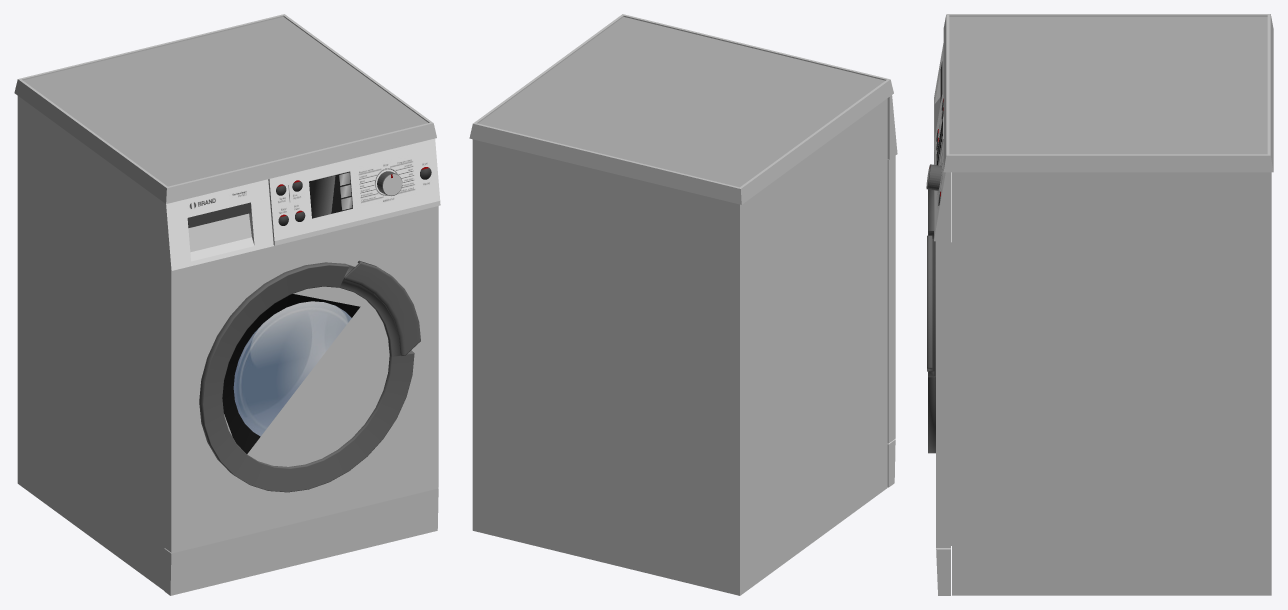
Rendered from clothes_washing_machine.glb.
The picture shows the model from 3 angles, left to right: view 1: azimuth 30°, elevation 25°; view 2: azimuth 150°, elevation 25°; view 3: azimuth 270°, elevation 25°; orthographic projection. The views are drawn at different scales.
Parts seen in each view (by area): view 1: white-metal-without-texture, light-grey-no-reflection, white-metal-textured, metal-light, white-no-reflection, black-rubber, glass, metal; view 2: white-metal-without-texture, light-grey-no-reflection, white-no-reflection; view 3: white-metal-without-texture, light-grey-no-reflection, white-no-reflection, metal-light, white-metal-textured.
Boxes of the visible parts, box(x1,y1,x2,y2) form: white-metal-without-texture: box(17, 96, 440, 595); light-grey-no-reflection: box(23, 17, 427, 186); white-metal-textured: box(166, 138, 440, 436); metal-light: box(199, 171, 420, 492); white-no-reflection: box(14, 14, 436, 203); black-rubber: box(222, 294, 360, 453); glass: box(309, 171, 352, 218); metal: box(187, 168, 431, 227); white-metal-without-texture: box(472, 95, 897, 595); light-grey-no-reflection: box(478, 17, 884, 187); white-no-reflection: box(469, 14, 893, 204); white-metal-without-texture: box(934, 71, 1271, 595); light-grey-no-reflection: box(949, 16, 1267, 154); white-no-reflection: box(926, 14, 1273, 188); metal-light: box(926, 164, 941, 453); white-metal-textured: box(934, 43, 945, 235).
Size of the model in its own units: 0.59 by 0.842 by 0.6015.
Materials: 9 (2 with a texture image).
